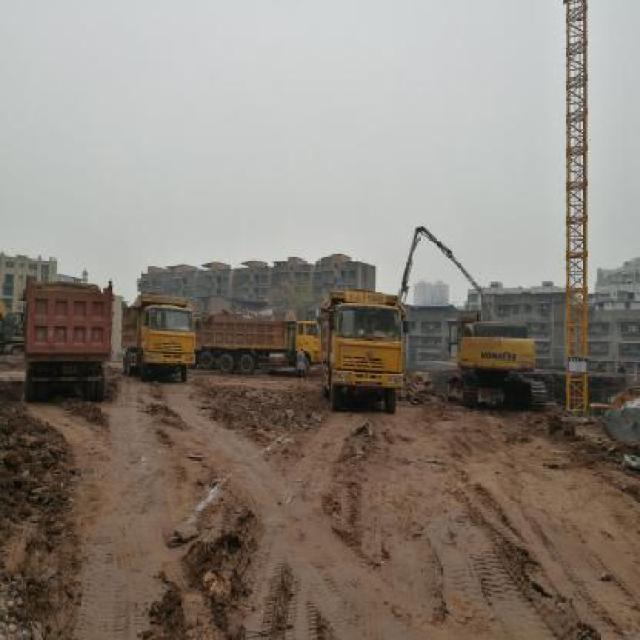dump_truck: (20, 282, 114, 401), (320, 291, 409, 411), (196, 313, 319, 378), (120, 295, 194, 382)
excavator: (446, 309, 549, 413)
